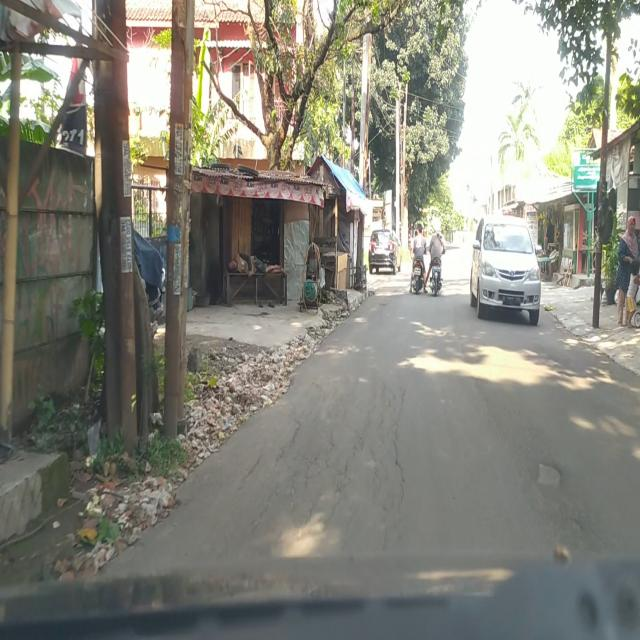Drain Hole: (251, 382, 406, 529)
